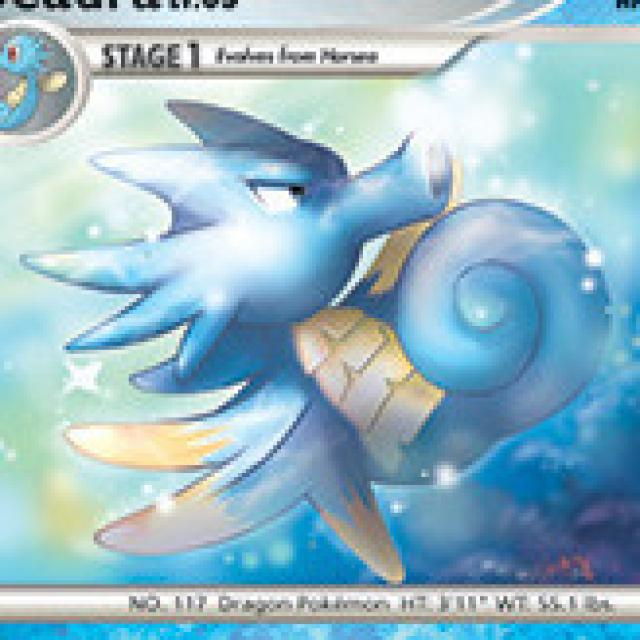Seadra: (80, 89, 618, 602)
